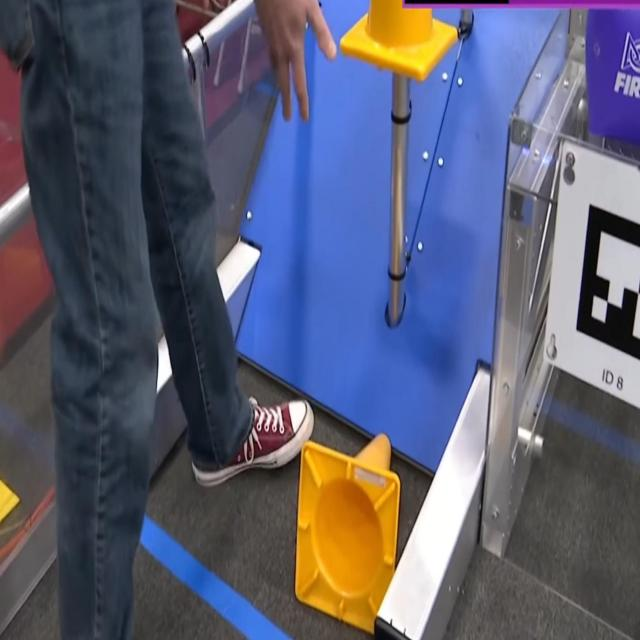frc_cone: (289, 419, 408, 634), (339, 0, 460, 84)
frc_cube: (586, 0, 640, 156)
